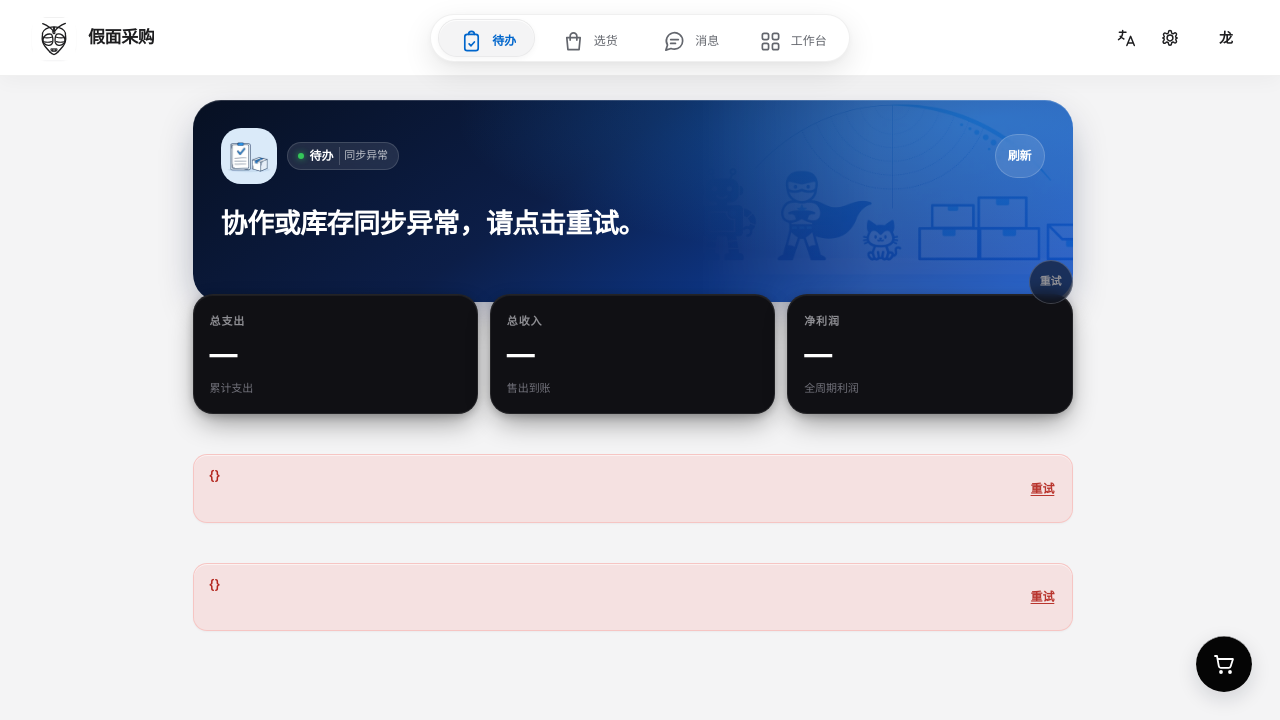
Test: Dashboard favorite synchronization › does not let the previous catalog response overwrite a newly opened value-king catalog
Click the button with aria-label "选货" at (589, 41), box [538,19,640,63]
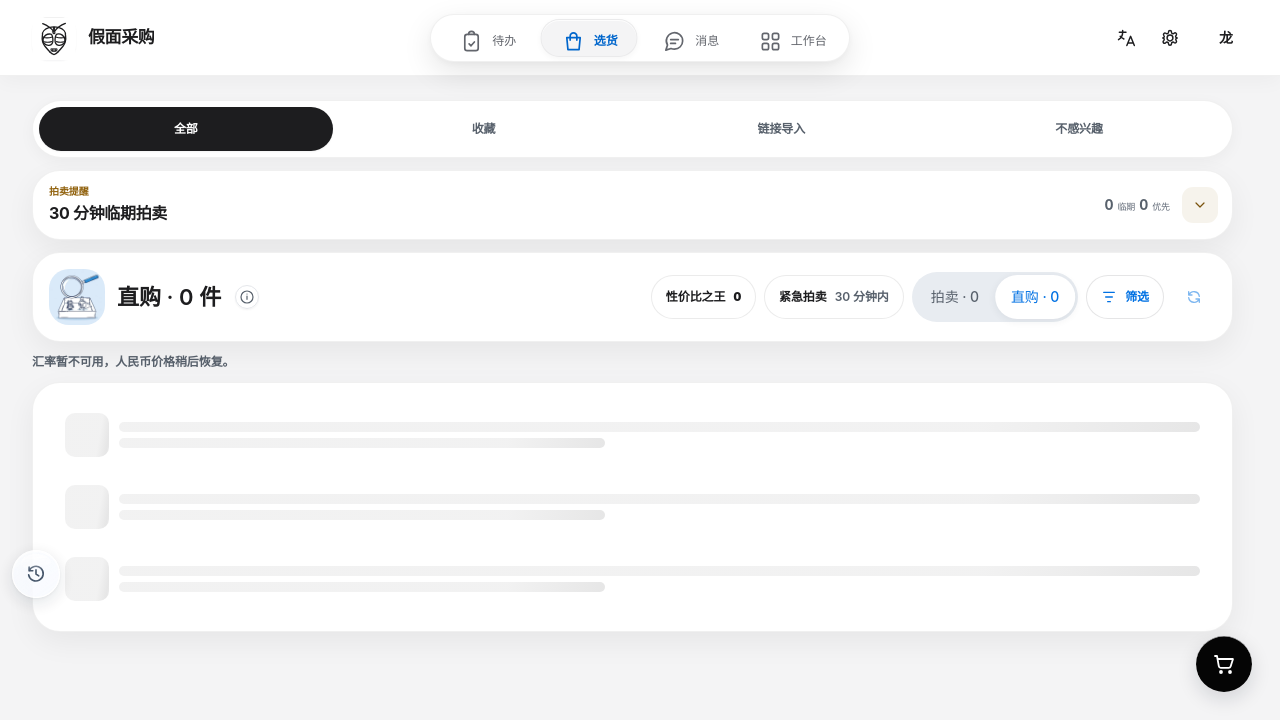
expect the element named "在售商品类型" is shown: met, box [912,272,1078,322]
expect the button with aria-label "性价比之王" is shown: met
Click the button with aria-label "性价比之王" at (703, 297), box [651,275,756,319]
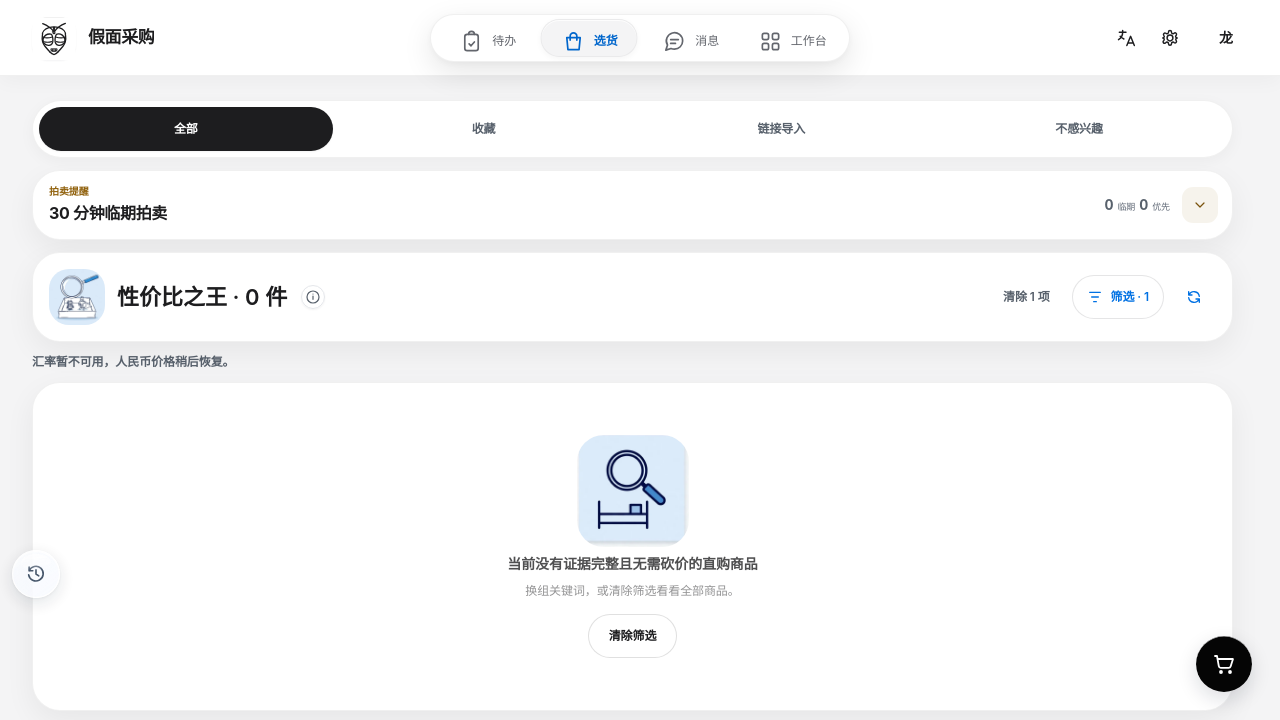
expect the text "性价比之王 · 0 件" is shown: met, box [117,283,287,311]
